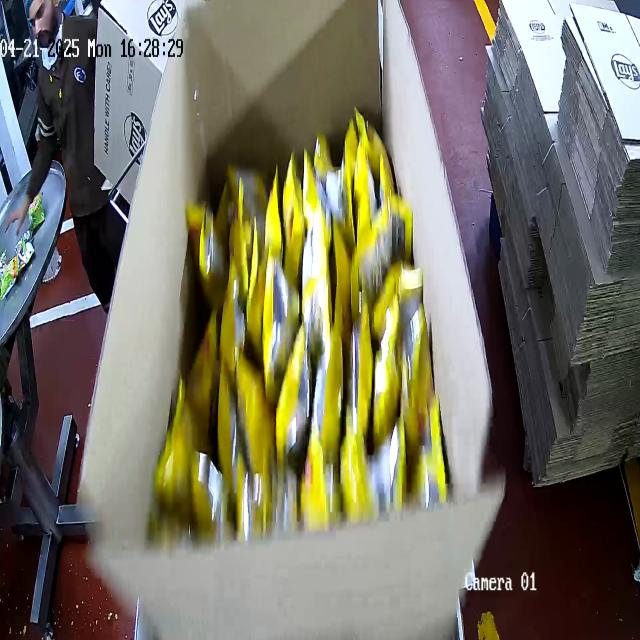SALTED: (166, 133, 444, 545)
